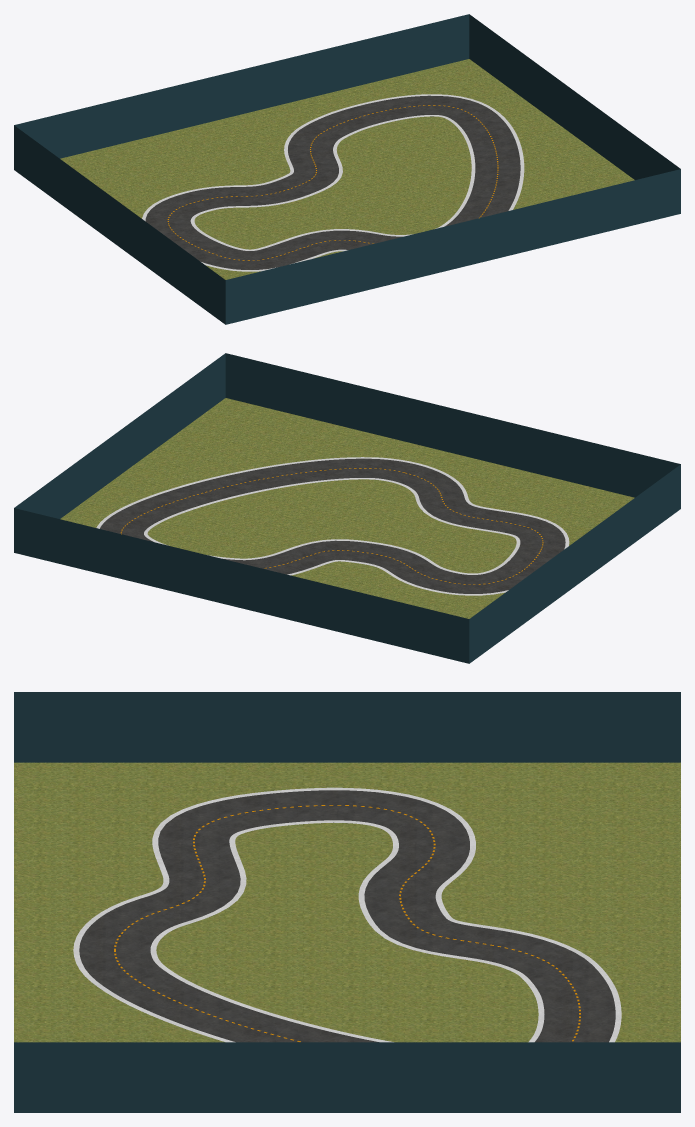
Rendered from 11_reInvent2019_track.dae.
The picture shows the model from 3 angles, top to bottom: view 1: azimuth 30°, elevation 25°; view 2: azimuth 150°, elevation 25°; view 3: azimuth 270°, elevation 25°; orthographic projection. The views are drawn at different scales.
Parts seen in each view (by area): view 1: wall.001, field.001, road, ol, il, cl; view 2: wall.001, field.001, road, ol, il, cl; view 3: field.001, wall.001, road, il, ol, cl.
Boxes of the visible parts, box(x1,y1,x2,y2) form: wall.001: box(14, 14, 680, 324); field.001: box(60, 59, 634, 279); road: box(145, 95, 520, 269); ol: box(190, 115, 475, 250); il: box(142, 94, 524, 271); cl: box(167, 105, 498, 260); wall.001: box(14, 353, 680, 663); field.001: box(60, 398, 634, 618); road: box(100, 458, 565, 595); ol: box(144, 478, 520, 574); il: box(96, 457, 569, 595); cl: box(120, 468, 543, 584); field.001: box(14, 762, 680, 1042); wall.001: box(14, 692, 680, 1112); road: box(79, 790, 615, 1042); il: box(73, 787, 621, 1042); ol: box(150, 820, 544, 1042); cl: box(114, 805, 580, 1041).
Bounding box in the file's own units: 10.64 × 8.56 × 1.
5 materials, 5 textured.
